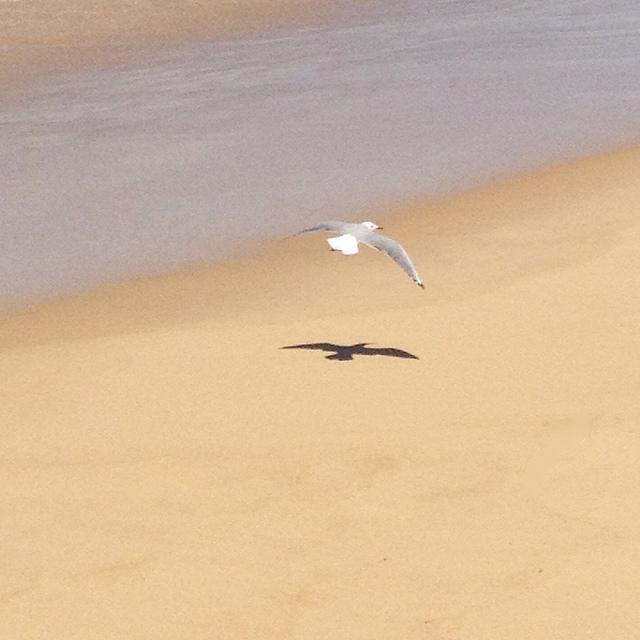bird: (281, 206, 445, 299)
